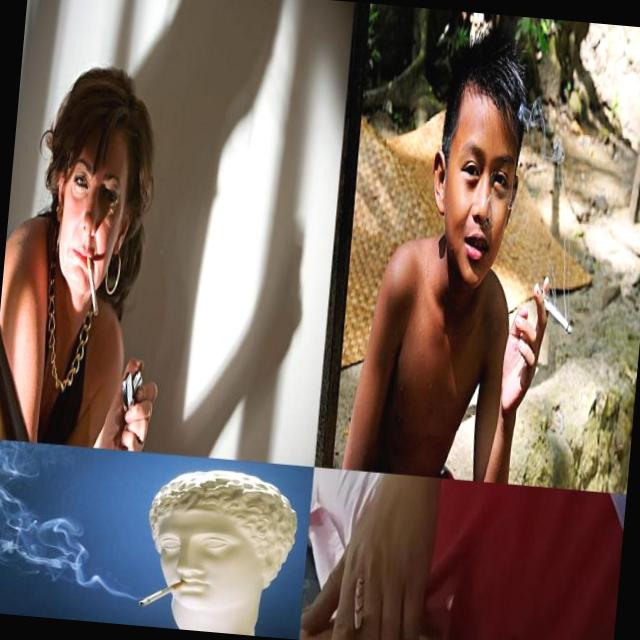smoke: (137, 572, 190, 615), (532, 290, 575, 334), (80, 255, 102, 318), (349, 574, 366, 640)
